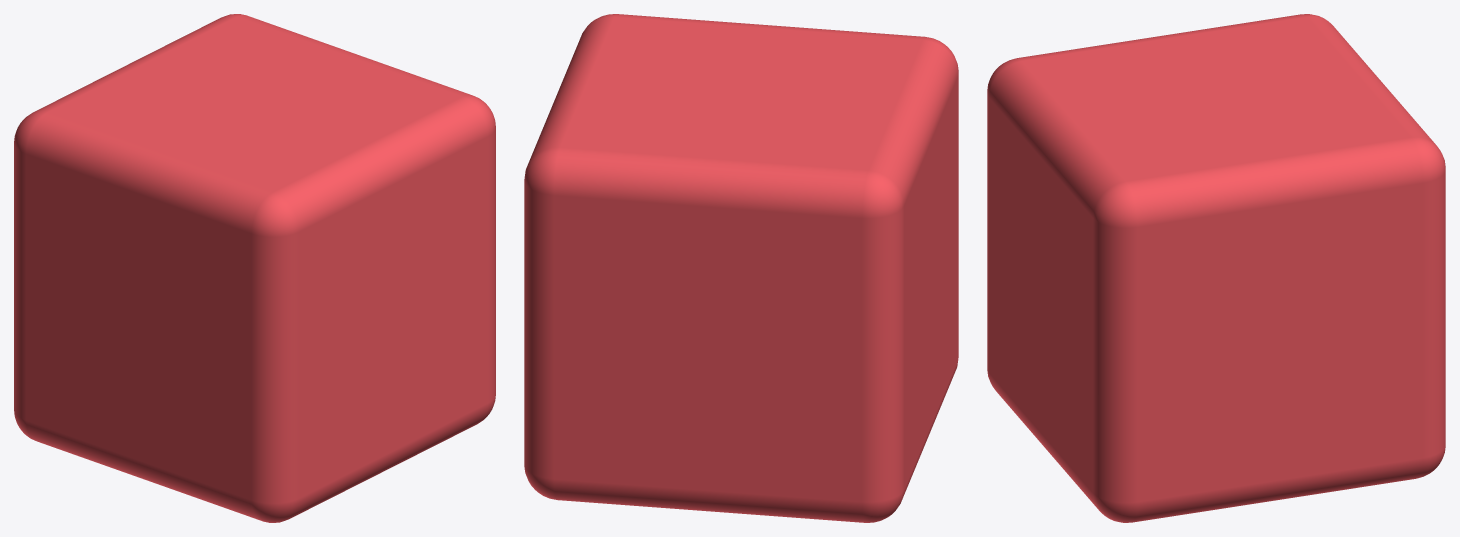
3 views of the same model, side by side, from view 1: azimuth 30°, elevation 25°; view 2: azimuth 150°, elevation 25°; view 3: azimuth 270°, elevation 25° (orthographic). The views are drawn at different scales.
Visible parts, largest first — view 1: cube; view 2: cube; view 3: cube.
Part boxes in pixels (x1=…): cube: x1=14, y1=14, x2=495, y2=522; cube: x1=524, y1=14, x2=958, y2=522; cube: x1=987, y1=14, x2=1445, y2=522.
Bounding box in the file's own units: 2.09 × 1.7 × 2.09.
